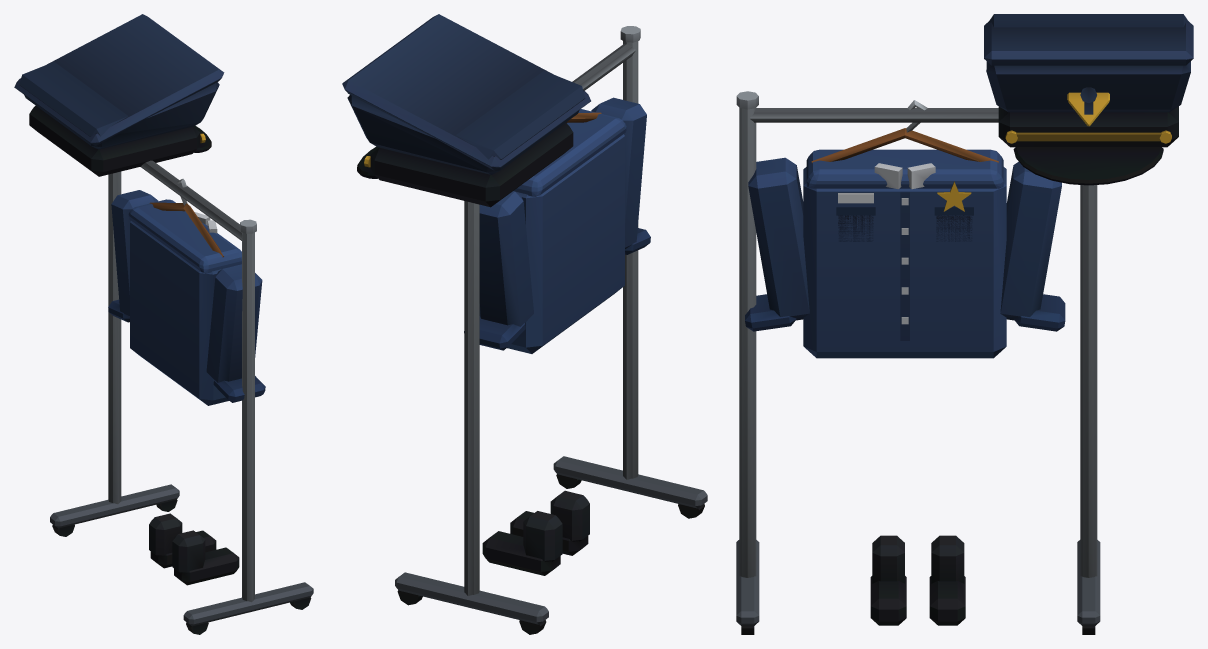
The model's file is uniform_rack.glb.
3 renders of one model, left to right at view 1: azimuth 30°, elevation 25°; view 2: azimuth 150°, elevation 25°; view 3: azimuth 270°, elevation 25°, orthographic. The views are drawn at different scales.
Parts seen in each view (by area): view 1: Body; view 2: Body; view 3: Body.
Part boxes in pixels (x1=…): Body: x1=14, y1=14, x2=313, y2=634; Body: x1=342, y1=14, x2=707, y2=634; Body: x1=736, y1=14, x2=1193, y2=634.
Size of the model in its own units: 0.6692 by 1.99 by 1.39.
